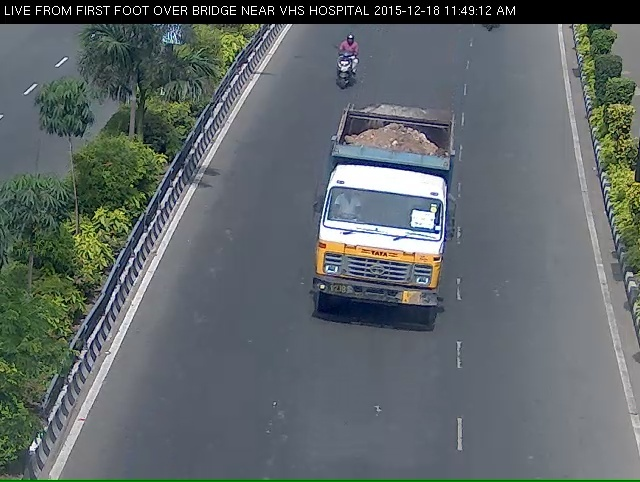Bus: (324, 109, 451, 351)
Person: (321, 41, 358, 98)
